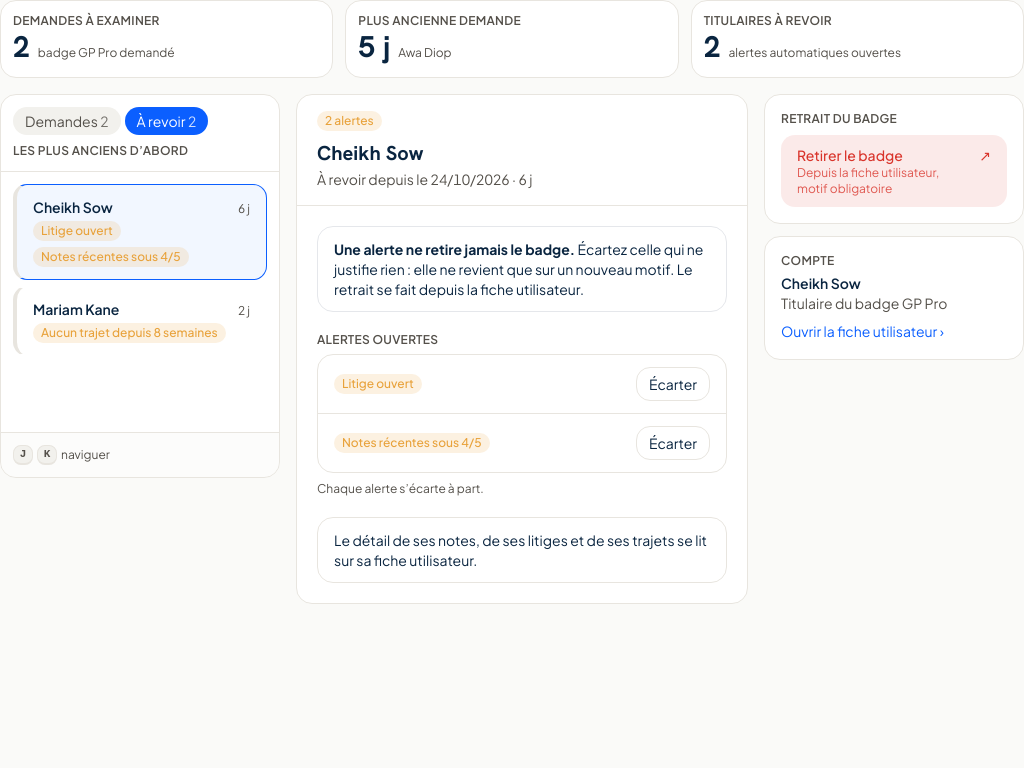
Test: /gp-pro › alerte déjà close : message du back et file relue
Click the button with test id "gp-pro-dismiss-f1": (673,384) [636,367,710,401]
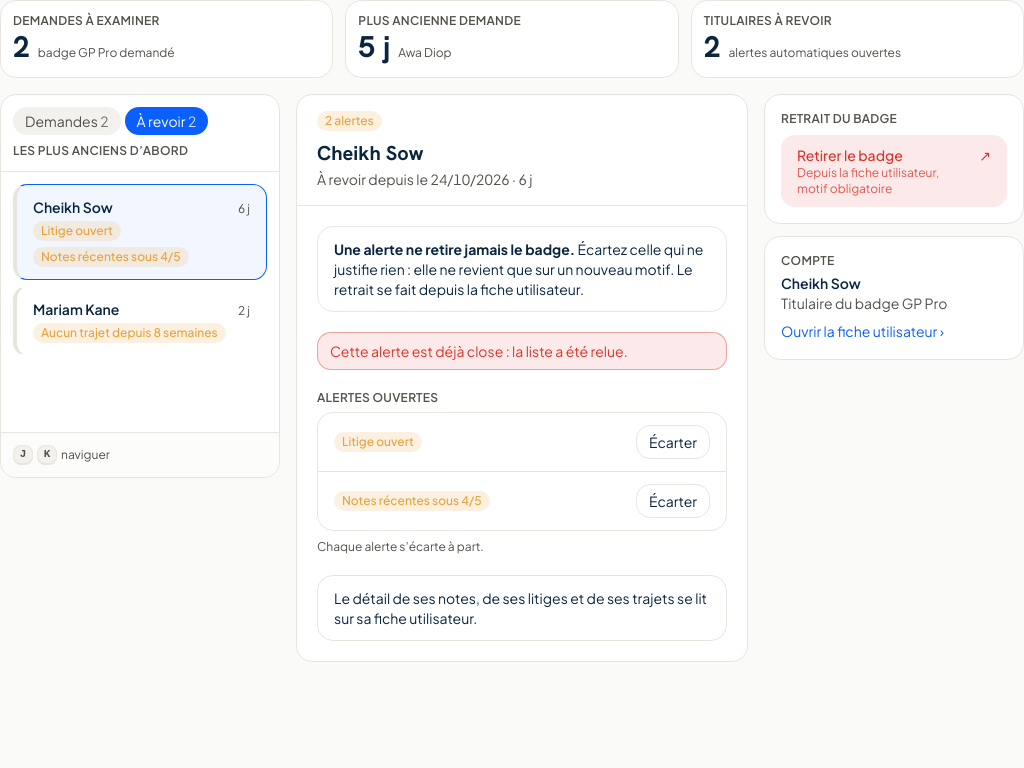
Expected: the message with test id "gp-pro-review-error" shows "déjà close", [330,342,628,360]
